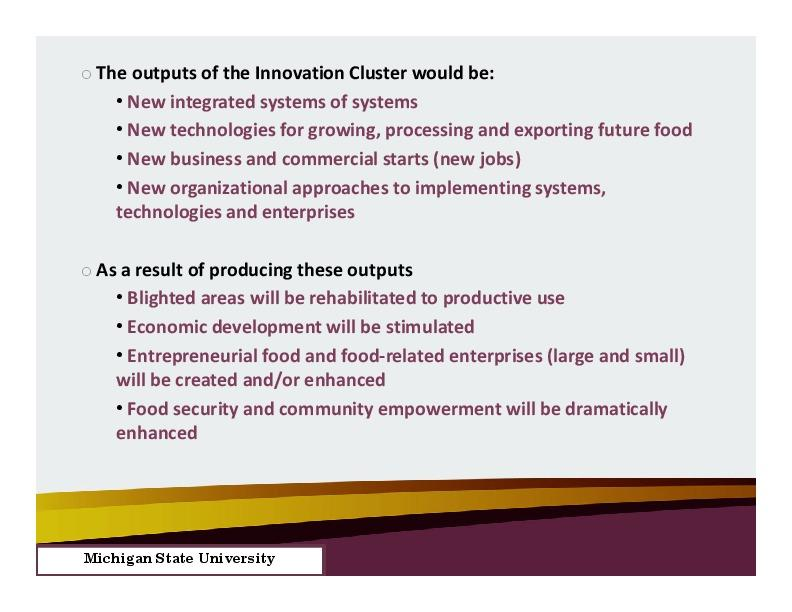paragraph: (58, 51, 741, 456)
subtitle: (79, 55, 516, 90), (76, 248, 433, 285)
